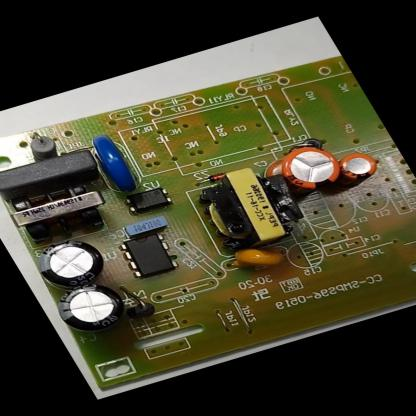Cap1: (253, 139, 355, 208)
Cap2: (323, 145, 392, 190)
Cap3: (25, 231, 120, 296)
Cap4: (43, 274, 141, 342)
MOSFET: (113, 226, 186, 285)
Mov: (76, 127, 156, 204)
Resistor: (20, 128, 68, 168)
Transformer: (180, 156, 323, 262), (0, 174, 120, 255)
